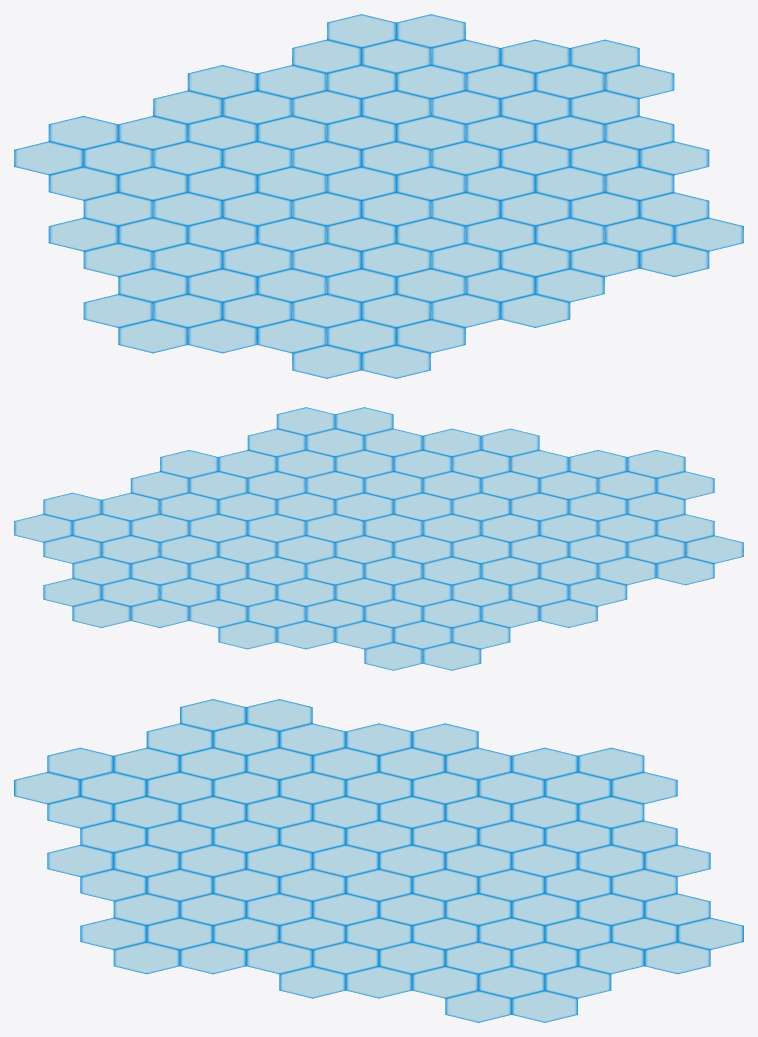
Rendered from map-test.fbx.
3 views of the same model, one above another, from view 1: azimuth 30°, elevation 25°; view 2: azimuth 150°, elevation 25°; view 3: azimuth 270°, elevation 25° (orthographic). The views are drawn at different scales.
Visible parts, largest first — view 1: unit50, unit90, unit12, unit15, unit42, unit46, unit54, unit63, unit67, unit76, unit79, unit86 (+86 smaller); view 2: unit11, unit16, unit48, unit64, unit75, unit77, unit1, unit9, unit22, unit34, unit37, unit39 (+86 smaller); view 3: unit48, unit64, unit2, unit33, unit46, unit63, unit1, unit3, unit4, unit7, unit12, unit13 (+86 smaller).
Part boxes in pixels (left/top/right/bottom): unit50: left=187, top=268, right=257, bottom=302; unit90: left=500, top=90, right=570, bottom=124; unit12: left=639, top=243, right=709, bottom=276; unit15: left=500, top=243, right=570, bottom=276; unit42: left=48, top=217, right=118, bottom=251; unit46: left=187, top=217, right=257, bottom=251; unit54: left=187, top=319, right=257, bottom=353; unit63: left=500, top=141, right=570, bottom=175; unit67: left=639, top=141, right=709, bottom=175; unit76: left=187, top=116, right=257, bottom=149; unit79: left=48, top=116, right=118, bottom=149; unit86: left=500, top=39, right=570, bottom=73; unit11: left=276, top=407, right=335, bottom=435; unit16: left=422, top=471, right=481, bottom=499; unit48: left=568, top=578, right=627, bottom=606; unit64: left=130, top=471, right=189, bottom=499; unit75: left=276, top=578, right=335, bottom=606; unit77: left=422, top=642, right=481, bottom=670; unit1: left=276, top=492, right=335, bottom=520; unit9: left=276, top=450, right=335, bottom=478; unit22: left=422, top=514, right=481, bottom=542; unit34: left=422, top=557, right=481, bottom=585; unit37: left=568, top=492, right=627, bottom=520; unit39: left=568, top=450, right=627, bottom=478; unit48: left=345, top=723, right=412, bottom=755; unit64: left=345, top=966, right=412, bottom=998; unit2: left=345, top=869, right=412, bottom=901; unit33: left=345, top=820, right=412, bottom=852; unit46: left=345, top=772, right=412, bottom=804; unit63: left=345, top=917, right=412, bottom=949; unit1: left=312, top=893, right=378, bottom=925; unit3: left=279, top=869, right=345, bottom=901; unit4: left=246, top=893, right=312, bottom=925; unit7: left=180, top=893, right=246, bottom=925; unit12: left=80, top=917, right=146, bottom=949; unit13: left=113, top=893, right=179, bottom=925.
Bounding box in the file's own units: 80 × 0 × 76.21.
